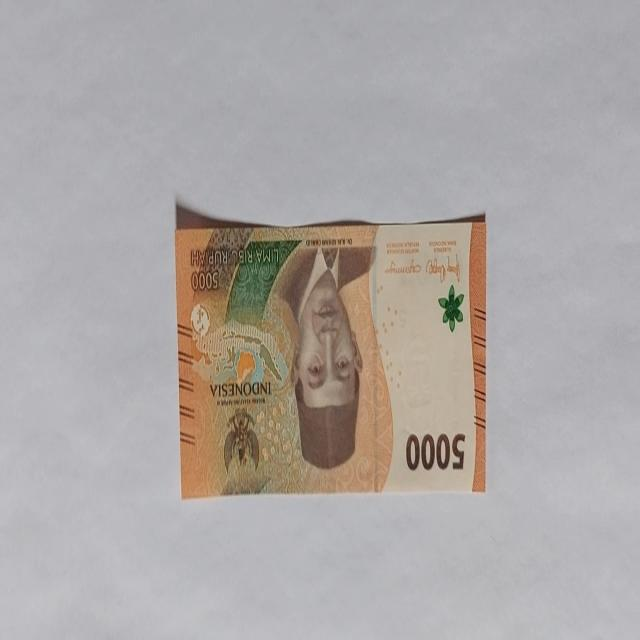lima ribu rupiah: (175, 202, 487, 498), (282, 244, 366, 472)
